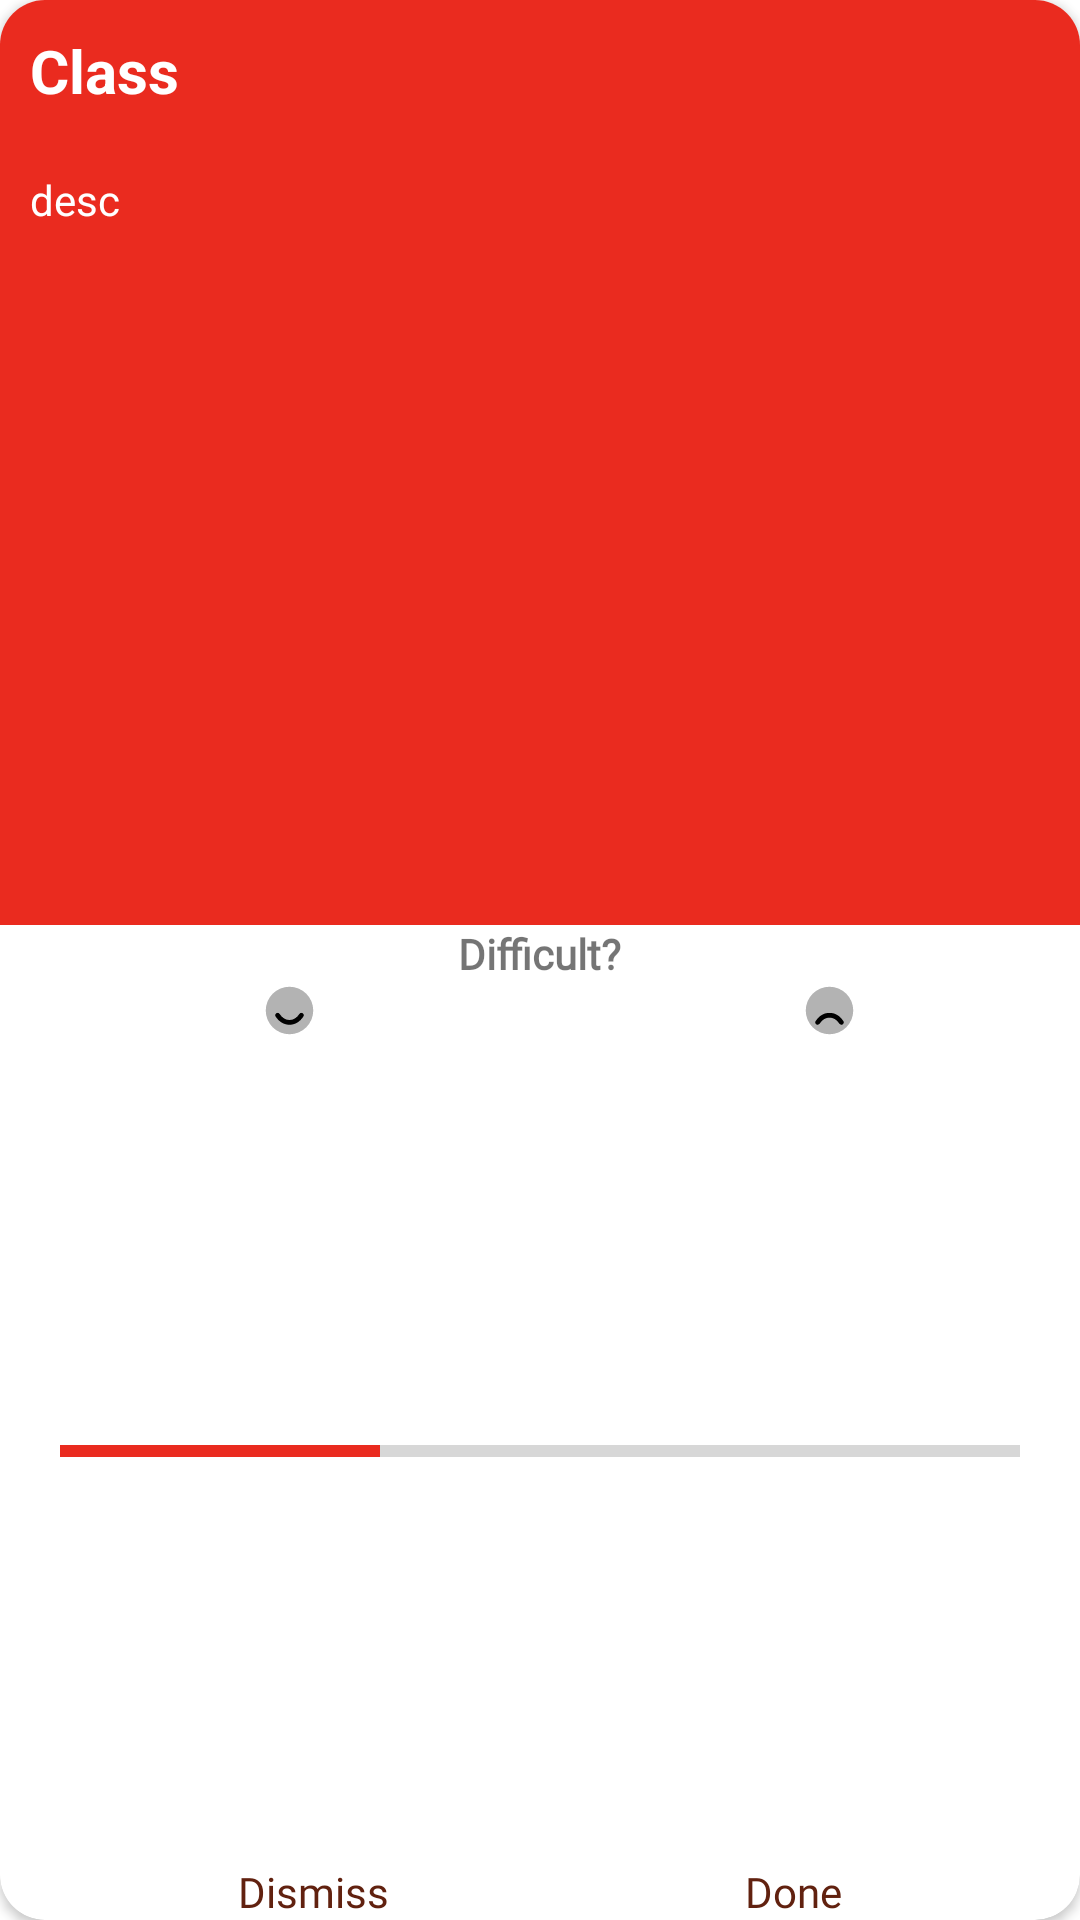

Locate icon controls on the screen. Image size 1080×1920, boxes as bbox=[x1, y1, x2, y2].
happy: bbox=[266, 987, 313, 1034]
sad: bbox=[806, 987, 853, 1034]
